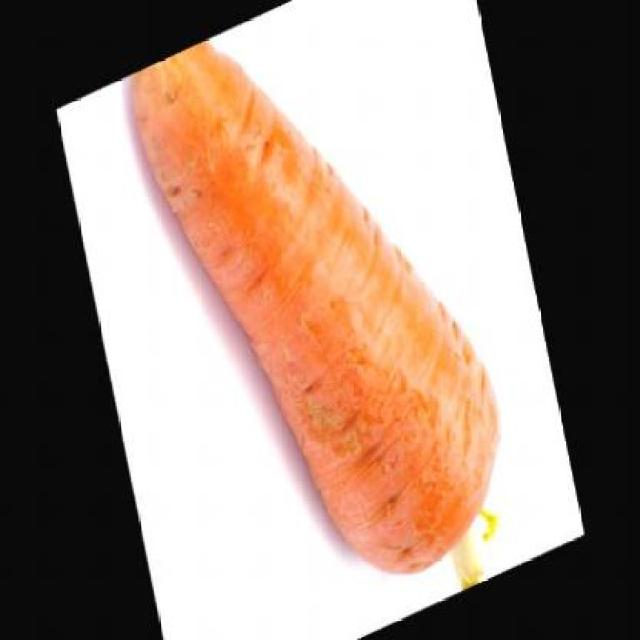carrot: (127, 0, 523, 638)
